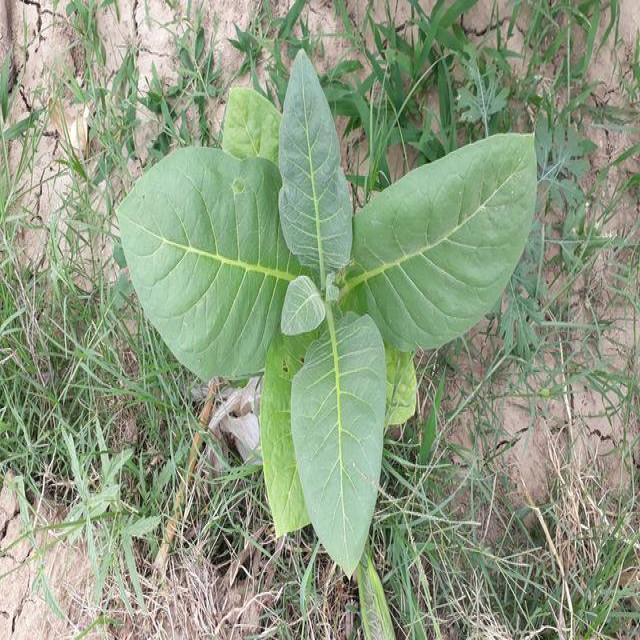crop: (125, 63, 542, 545)
